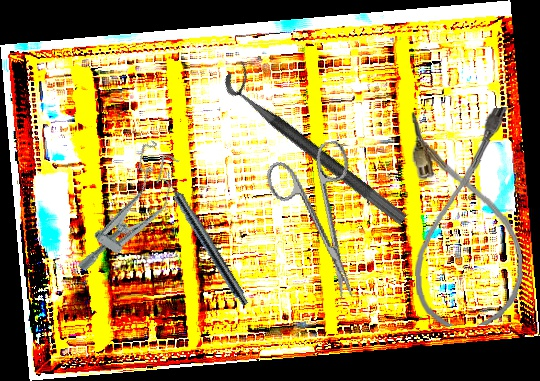Cannula: (406, 106, 526, 329)
Fixation Ring: (218, 59, 420, 227)
Handpiece: (158, 169, 254, 308)
Iris Scissors: (261, 138, 385, 310)
Speculum: (68, 137, 192, 289)
